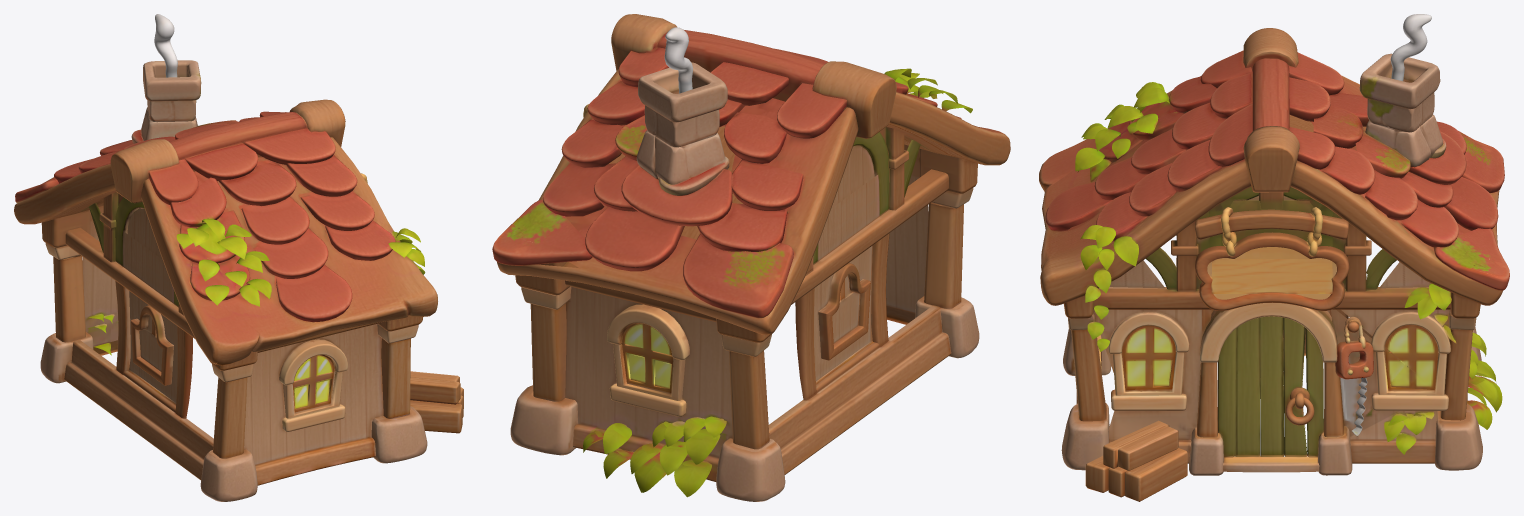
The model's file is C03_bld_workshop.fbx.
The picture shows the model from 3 angles, left to right: view 1: azimuth 30°, elevation 25°; view 2: azimuth 150°, elevation 25°; view 3: azimuth 270°, elevation 25°; orthographic projection. The views are drawn at different scales.
Visible parts, largest first — view 1: tripo_node_4c769239; view 2: tripo_node_4c769239; view 3: tripo_node_4c769239.
Part boxes in pixels (x1=…): tripo_node_4c769239: x1=14, y1=14, x2=463, y2=501; tripo_node_4c769239: x1=492, y1=14, x2=1010, y2=501; tripo_node_4c769239: x1=1039, y1=14, x2=1509, y2=501.
Bounding box in the file's own units: 0.8042 × 0.9409 × 0.9995.
